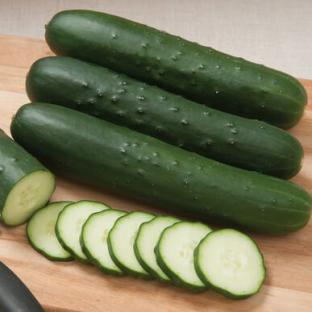Cucumber: (12, 104, 311, 233), (26, 57, 303, 178), (46, 10, 307, 128), (0, 129, 55, 225), (195, 229, 265, 299), (155, 222, 212, 291), (55, 200, 109, 262), (108, 212, 154, 278), (81, 209, 126, 275), (134, 217, 179, 282), (26, 202, 72, 261)
